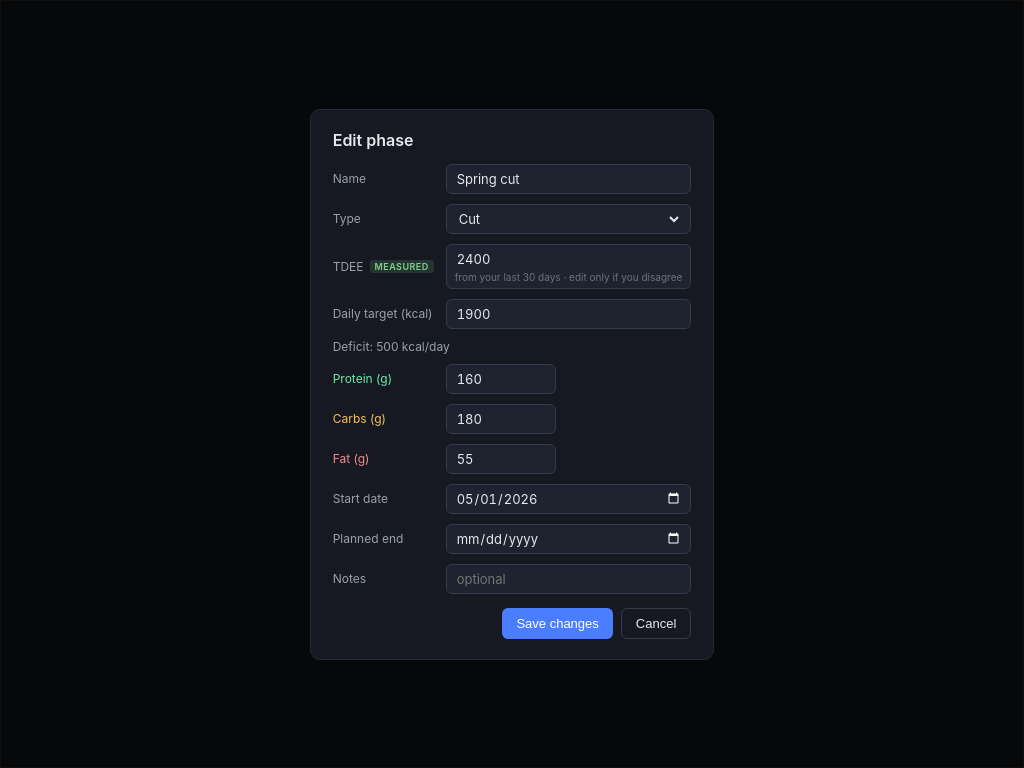
Test: PhaseFormModal new-phase hint (edit) › shows new-phase-hint after editing target-kcal when loggedDays >= 3
Replace the text in the number field with test id "target-kcal" with "1850" at x=568, y=314, box [455,304,682,322]
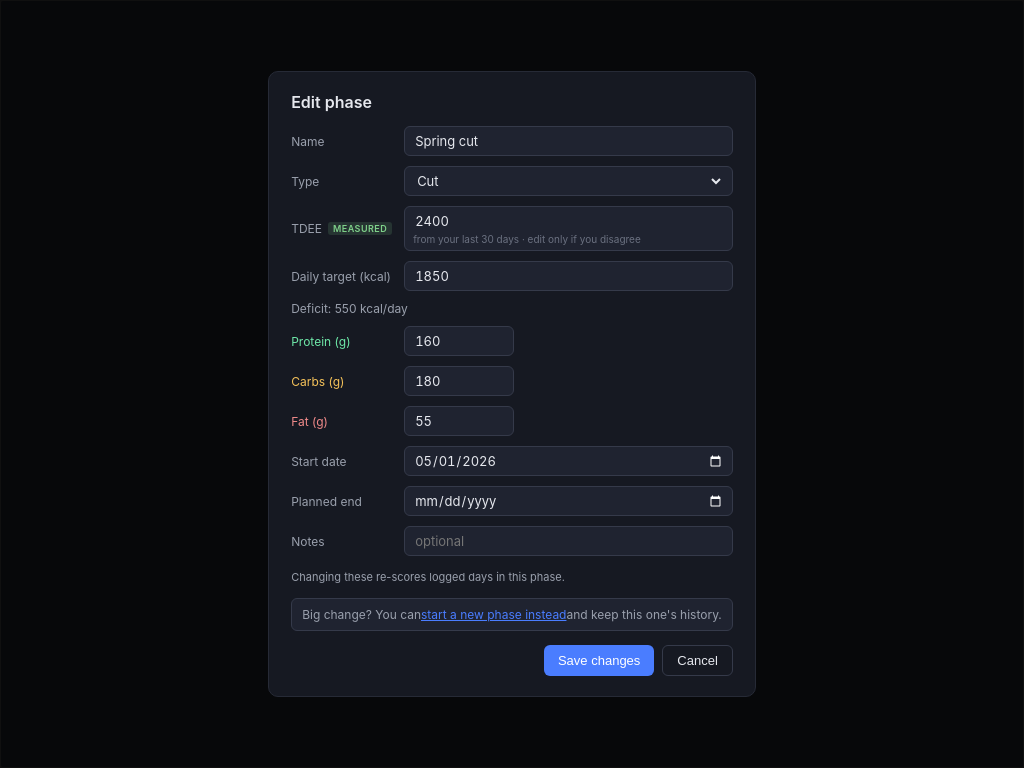
expect the element with test id "new-phase-hint" is shown: met, box [291,598,733,631]
